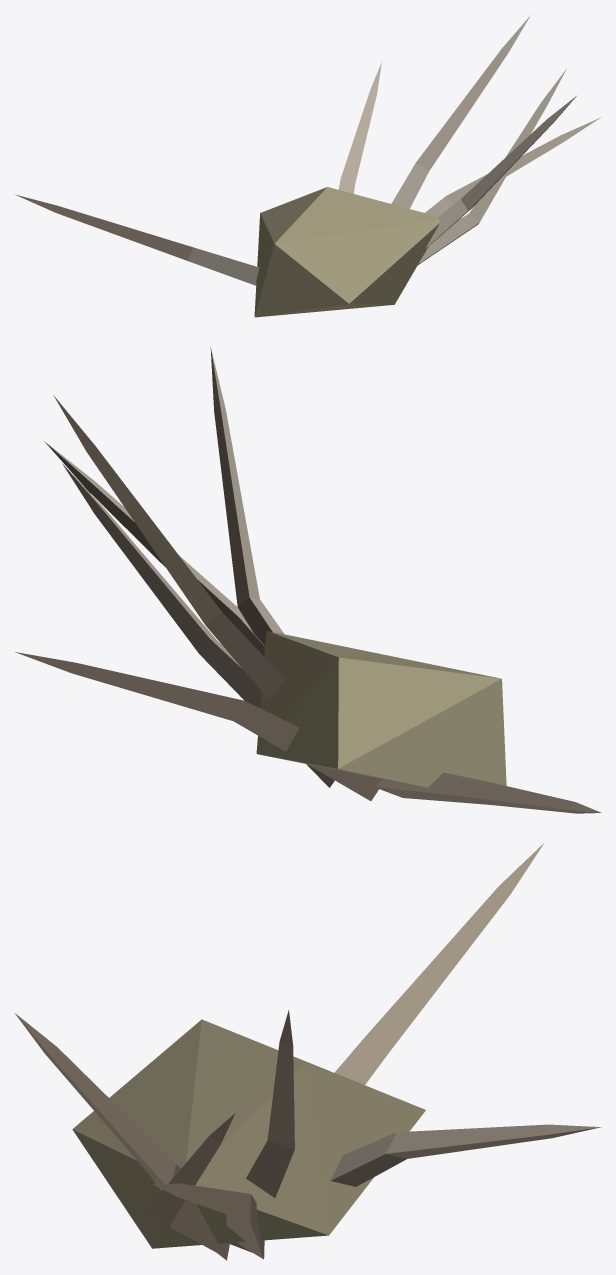
The model's file is prop_desert_scrub_0.glb.
The picture shows the model from 3 angles, top to bottom: view 1: azimuth 30°, elevation 25°; view 2: azimuth 150°, elevation 25°; view 3: azimuth 270°, elevation 25°; orthographic projection. The views are drawn at different scales.
Visible parts, largest first — view 1: Body; view 2: Body; view 3: Body.
Part boxes in pixels (x1,y1,x2,y2): Body: (15, 15, 600, 317); Body: (15, 347, 601, 813); Body: (15, 843, 601, 1260).
Bounding box in the file's own units: 0.9813 × 0.4514 × 0.5865.
